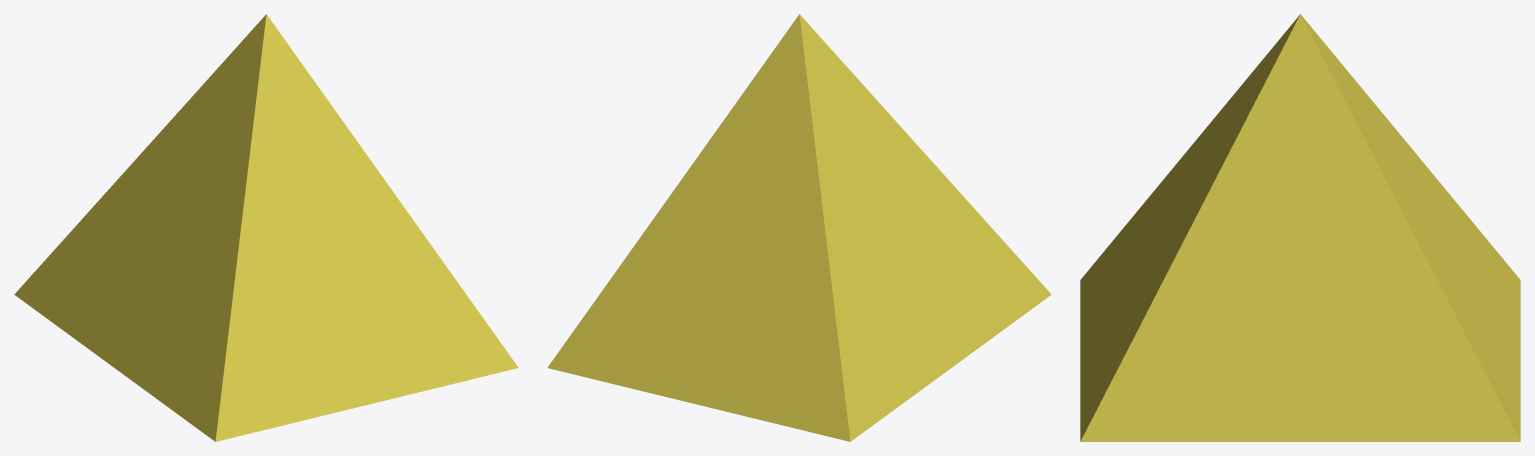
The picture shows the model from 3 angles, left to right: view 1: azimuth 30°, elevation 25°; view 2: azimuth 150°, elevation 25°; view 3: azimuth 270°, elevation 25°; orthographic projection. The views are drawn at different scales.
Parts seen in each view (by area): view 1: Mesh_Mesh_head_geo.001_lambert2SG.001; view 2: Mesh_Mesh_head_geo.001_lambert2SG.001; view 3: Mesh_Mesh_head_geo.001_lambert2SG.001.
Part boxes in pixels (x1,y1,x2,y2): Mesh_Mesh_head_geo.001_lambert2SG.001: (14,14,518,441); Mesh_Mesh_head_geo.001_lambert2SG.001: (547,14,1051,441); Mesh_Mesh_head_geo.001_lambert2SG.001: (1080,14,1520,441).
Size of the model in its own units: 20 by 20 by 23.
